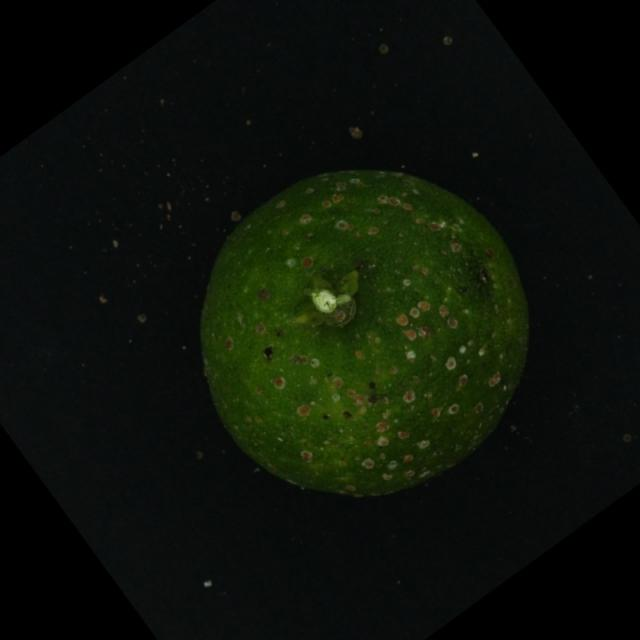grenning: (160, 140, 547, 525)
